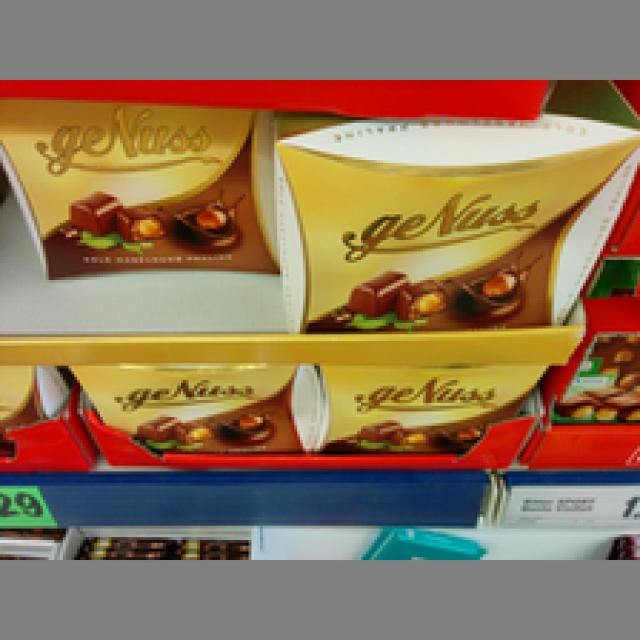groceries: (271, 112, 626, 328), (0, 97, 274, 282)
